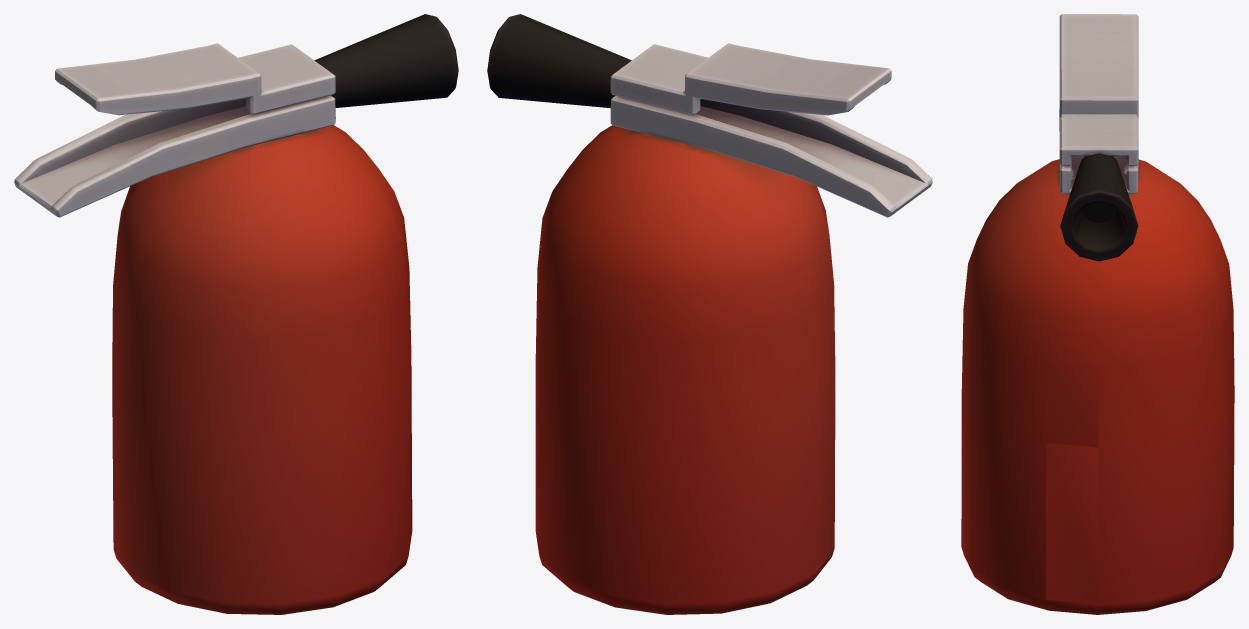
File: fireExtinguisher.gltf
3 views of the same model, side by side, from view 1: azimuth 30°, elevation 25°; view 2: azimuth 150°, elevation 25°; view 3: azimuth 270°, elevation 25° (orthographic). The views are drawn at different scales.
Visible parts, largest first — view 1: Object_5.004; view 2: Object_5.004; view 3: Object_5.004.
Boxes of the visible parts, x1,y1,x2,y2 form: Object_5.004: (14,14,458,614); Object_5.004: (487,14,932,614); Object_5.004: (961,14,1234,614).
Size of the model in its own units: 1.21 by 1.5 by 0.7883.
Materials: 1 (1 with a texture image).
